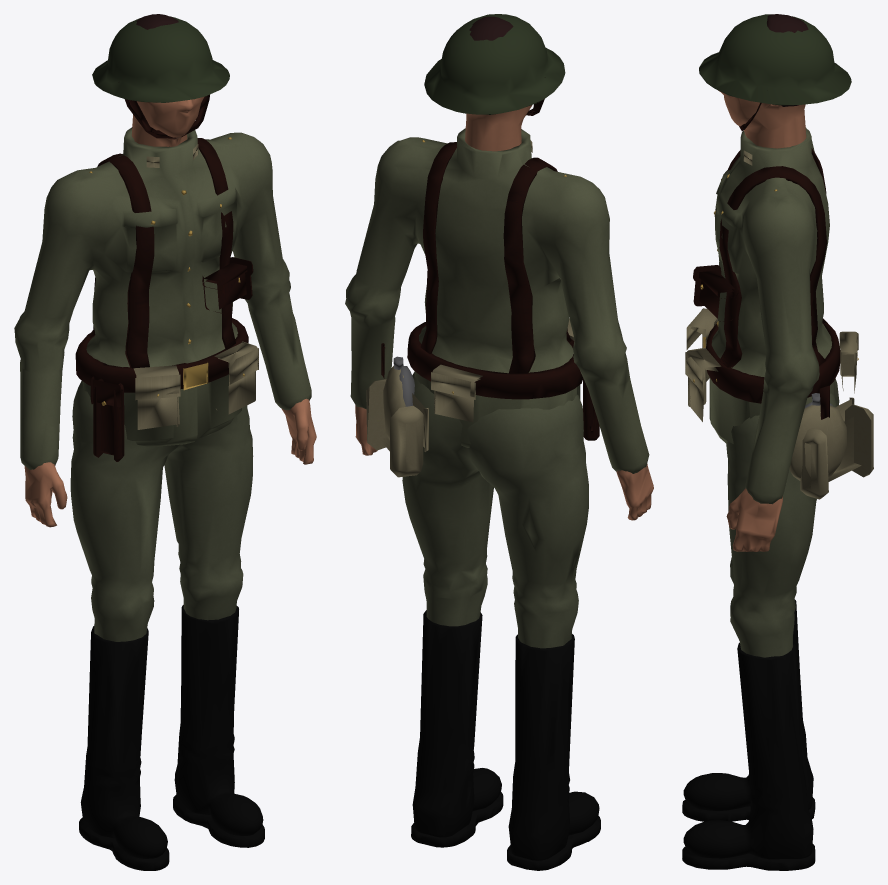
The model's file is soldier_gunner_lod1.glb.
3 renders of one model, left to right at view 1: azimuth 30°, elevation 25°; view 2: azimuth 150°, elevation 25°; view 3: azimuth 270°, elevation 25°, orthographic. The views are drawn at different scales.
Parts seen in each view (by area): view 1: soldier_gunner_tunic, soldier_gunner_trousers, soldier_gunner_boot, soldier_gunner_leather, soldier_gunner_helmet, soldier_gunner_skin, soldier_gunner_canvas, soldier_gunner_sole, soldier_gunner_brass; view 2: soldier_gunner_tunic, soldier_gunner_trousers, soldier_gunner_boot, soldier_gunner_leather, soldier_gunner_helmet, soldier_gunner_canvas, soldier_gunner_skin, soldier_gunner_sole, soldier_gunner_hair; view 3: soldier_gunner_tunic, soldier_gunner_boot, soldier_gunner_trousers, soldier_gunner_helmet, soldier_gunner_canvas, soldier_gunner_leather, soldier_gunner_skin, soldier_gunner_sole, soldier_gunner_hair.
Boxes of the visible parts, bbox=[...] form: soldier_gunner_tunic: bbox=[14, 127, 311, 469]; soldier_gunner_trousers: bbox=[70, 381, 253, 641]; soldier_gunner_boot: bbox=[80, 605, 263, 858]; soldier_gunner_leather: bbox=[75, 82, 253, 461]; soldier_gunner_helmet: bbox=[92, 16, 229, 102]; soldier_gunner_skin: bbox=[24, 96, 316, 527]; soldier_gunner_canvas: bbox=[133, 144, 258, 429]; soldier_gunner_sole: bbox=[79, 794, 264, 870]; soldier_gunner_brass: bbox=[89, 137, 244, 405]; soldier_gunner_tunic: bbox=[345, 128, 649, 473]; soldier_gunner_trousers: bbox=[402, 372, 588, 648]; soldier_gunner_boot: bbox=[412, 610, 599, 860]; soldier_gunner_leather: bbox=[381, 77, 599, 440]; soldier_gunner_helmet: bbox=[424, 14, 565, 114]; soldier_gunner_canvas: bbox=[366, 140, 574, 477]; soldier_gunner_skin: bbox=[355, 105, 653, 520]; soldier_gunner_sole: bbox=[411, 792, 600, 870]; soldier_gunner_hair: bbox=[469, 16, 513, 40]; soldier_gunner_tunic: bbox=[709, 127, 834, 504]; soldier_gunner_boot: bbox=[683, 600, 813, 859]; soldier_gunner_trousers: bbox=[726, 378, 839, 657]; soldier_gunner_helmet: bbox=[699, 14, 851, 105]; soldier_gunner_canvas: bbox=[685, 150, 873, 499]; soldier_gunner_leather: bbox=[693, 102, 840, 419]; soldier_gunner_skin: bbox=[718, 90, 806, 551]; soldier_gunner_sole: bbox=[682, 797, 815, 870]; soldier_gunner_hair: bbox=[767, 14, 808, 106].
Bounding box in the file's own units: 0.6618 × 1.77 × 0.3766.
13 materials, 6 textured.
